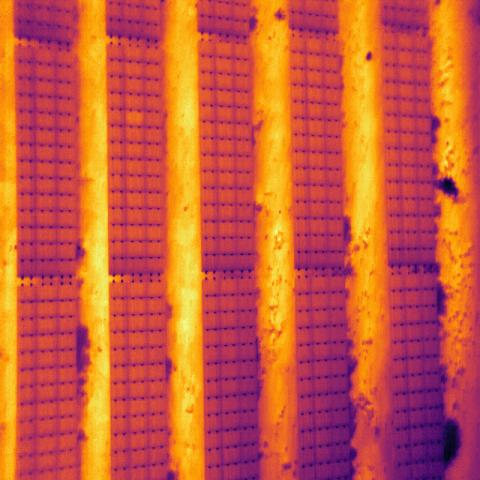fault: (126, 109, 144, 127)
